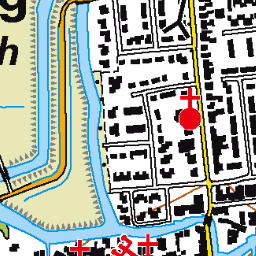church: (173, 85, 206, 133)
